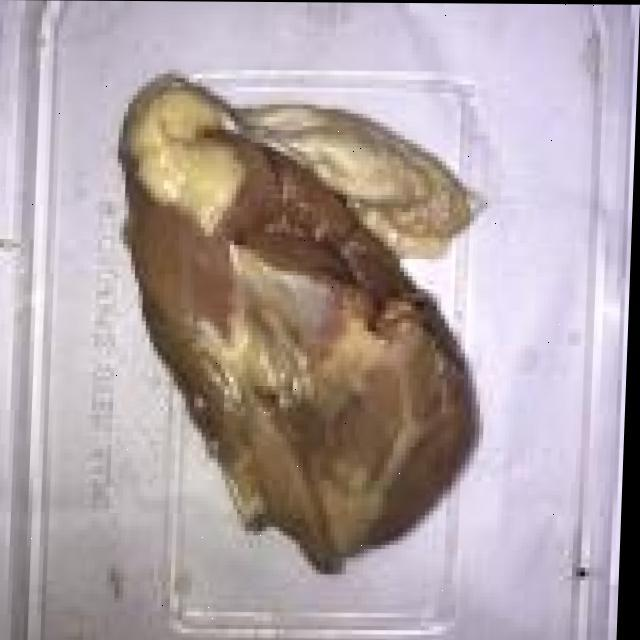breast: (90, 78, 514, 566)
